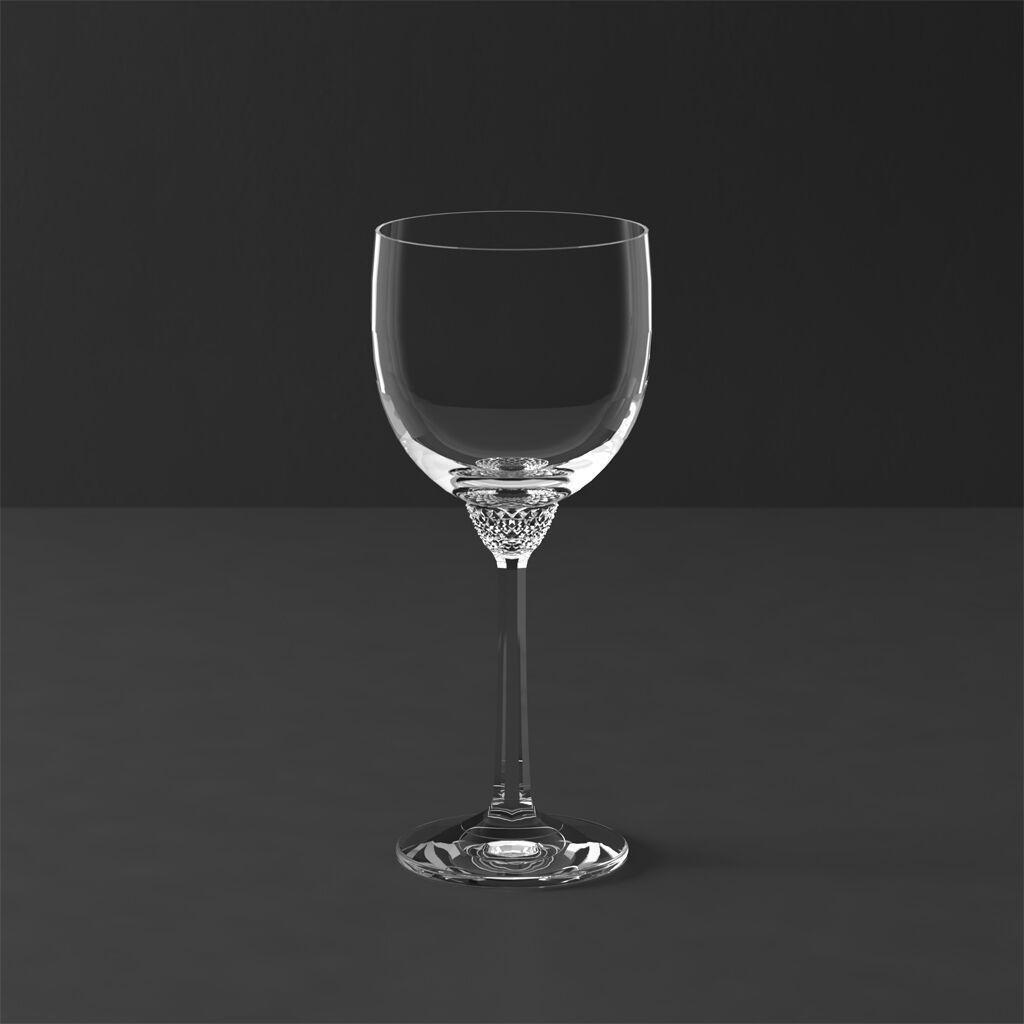glass-wine: (372, 207, 653, 887)
